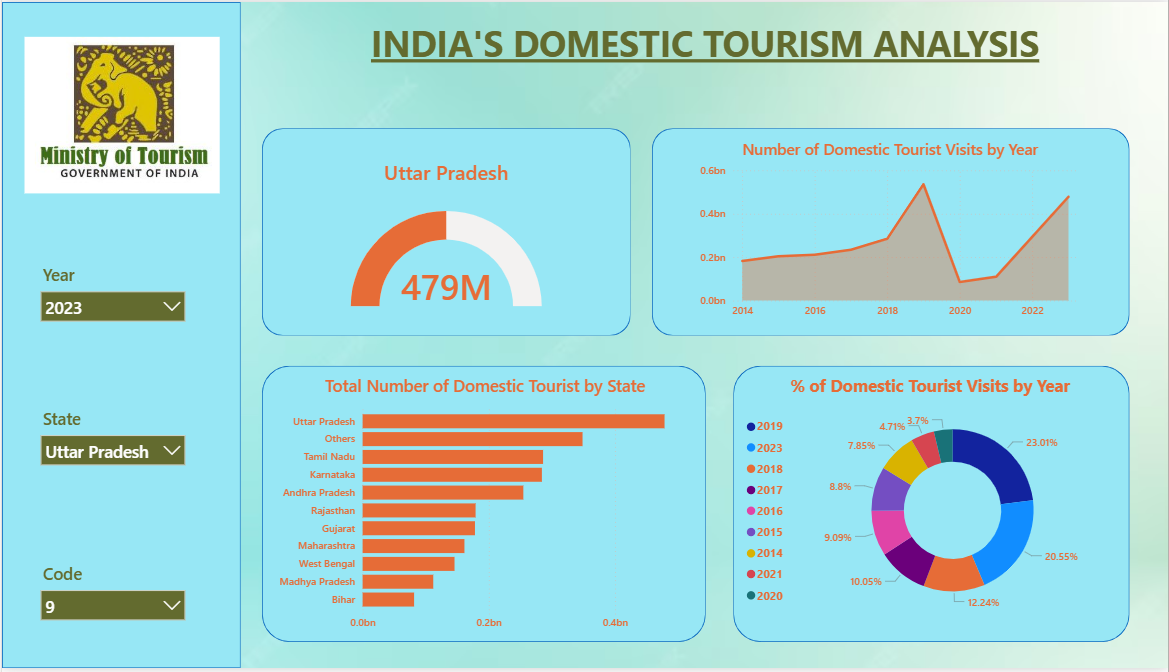

The dashboard page shown, as its layout file describes it:
{"tool":"powerbi","page":{"name":"Page 1","canvas":[1400,800],"ordinal":0},"visuals":[{"type":"shape","box":[0,0,286.7,800],"z":0},{"type":"shape","box":[312.2,436.8,532.8,331.7],"z":1000},{"type":"barChart","title":"Total Number of Domestic Tourist by State","fields":{"Y":["Sum(Append1.Number of Domestic Tourist Visits)"],"Category":["Append1.State"]},"box":[327.2,447.3,505.8,316.7],"z":2000},{"type":"slicer","fields":{"Values":["Append1.Year"]},"box":[36,309.2,193.6,79.5],"z":3000},{"type":"shape","box":[312.2,151.6,442.8,249.1],"z":4000},{"type":"shape","box":[878,436.8,475.8,331.7],"z":5000},{"type":"donutChart","title":"% of Domestic Tourist Visits by Year","fields":{"Y":["Sum(Append1.Number of Domestic Tourist Visits)"],"Category":["Append1.Year"]},"box":[888.5,447.3,451.8,300.2],"z":6000},{"type":"gauge","fields":{"Y":["Sum(Append1.Number of Domestic Tourist Visits)"]},"box":[379.7,246.1,307.7,124.6],"z":7000},{"type":"shape","box":[780.4,151.6,573.3,249.1],"z":8000},{"type":"card","fields":{"Values":["Append1.KPI Title"]},"box":[406.7,172.6,253.6,66],"z":9000},{"type":"areaChart","title":"Number of Domestic Tourist Visits by Year","fields":{"Category":["Append1.Year"],"Y":["Sum(Append1.Number of Domestic Tourist Visits)"]},"box":[833,163.6,466.8,225.1],"z":10000},{"type":"slicer","fields":{"Values":["Append1.State"]},"box":[36,481.8,193.6,79.5],"z":11000},{"type":"slicer","fields":{"Values":["Append1.Code"]},"box":[36,667.9,193.6,79.5],"z":12000},{"type":"image","box":[27,33,234.1,205.6],"z":13000},{"type":"textbox","box":[312.2,15,1064.1,91.6],"z":14000}]}

Visuals, with their boxes in screenshot pixels (x1, y1, x2, y2), scaled from the page's 1400x800 canvas onto the 1169x672 screenshot:
shape: 0:0:239:671
shape: 261:367:706:646
"Total Number of Domestic Tourist by State" barChart: 273:376:696:642
slicer - Append1.Year: 30:260:192:327
shape: 261:127:630:337
shape: 733:367:1130:646
"% of Domestic Tourist Visits by Year" donutChart: 742:376:1119:628
gauge - Sum(Append1.Number of Domestic Tourist Visits): 317:207:574:311
shape: 652:127:1130:337
card - Append1.KPI Title: 340:145:551:200
"Number of Domestic Tourist Visits by Year" areaChart: 696:137:1085:327
slicer - Append1.State: 30:405:192:471
slicer - Append1.Code: 30:561:192:628
image: 23:28:218:200
textbox: 261:13:1149:90
